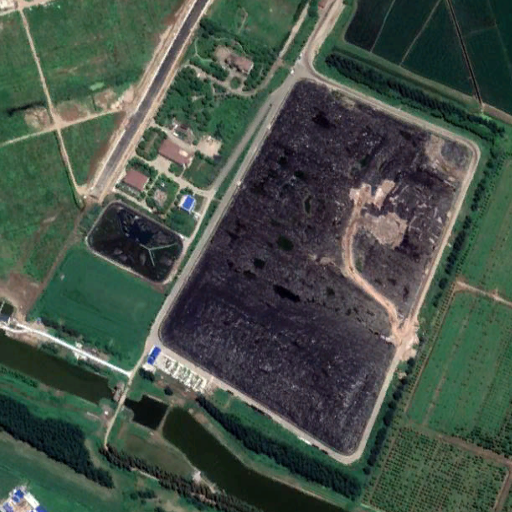lf: (161, 79, 477, 462)
